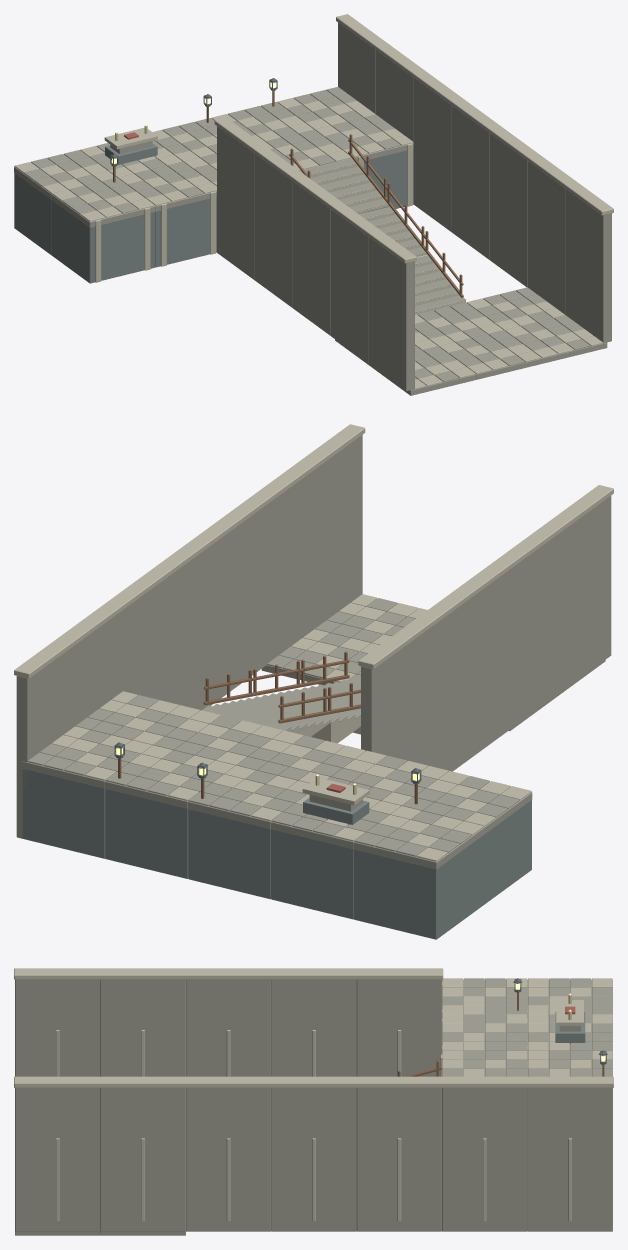
Rendered from tv_43_02_tower_stairwell.glb.
The picture shows the model from 3 angles, top to bottom: view 1: azimuth 30°, elevation 25°; view 2: azimuth 150°, elevation 25°; view 3: azimuth 270°, elevation 25°; orthographic projection. The views are drawn at different scales.
Visible parts, largest first — view 1: tower_shell_wall_0036, tower_shell_wall_0037, rampart_mass_0020, tower_shell_wall_0043, tower_shell_wall_0040, tower_shell_wall_0042, tower_shell_wall_0038, tower_shell_wall_0045, tower_shell_wall_0041, tower_shell_wall_0039, tower_shell_wall_0044, rampart_mass_0022 (+26 smaller); view 2: rampart_mass_0021, tower_shell_wall_0036, tower_shell_wall_0038, tower_shell_wall_0040, tower_shell_wall_0037, tower_shell_wall_0039, tower_shell_wall_0041, tower_shell_wall_0042, tower_shell_wall_0043, tower_shell_wall_0044, rampart_mass_0033, rampart_mass_0035 (+22 smaller); view 3: tower_shell_wall_0043, tower_shell_wall_0037, tower_shell_wall_0047, tower_shell_wall_0039, tower_shell_wall_0045, tower_shell_wall_0041, tower_shell_wall_0046, tower_shell_wall_0036, tower_shell_wall_0042, tower_shell_wall_0040, tower_shell_wall_0038, tower_shell_wall_0044 (+9 smaller).
Part boxes in pixels (x1,y1,x2,y2): tower_shell_wall_0036: [366, 228, 416, 391]; tower_shell_wall_0037: [563, 180, 613, 343]; rampart_mass_0020: [52, 195, 155, 283]; tower_shell_wall_0043: [450, 97, 499, 259]; tower_shell_wall_0040: [291, 173, 340, 335]; tower_shell_wall_0042: [252, 145, 301, 307]; tower_shell_wall_0038: [328, 201, 377, 362]; tower_shell_wall_0045: [411, 69, 460, 231]; tower_shell_wall_0041: [488, 125, 536, 287]; tower_shell_wall_0039: [525, 153, 574, 314]; tower_shell_wall_0044: [214, 117, 264, 279]; rampart_mass_0022: [155, 191, 216, 267]; rampart_mass_0021: [353, 827, 484, 939]; tower_shell_wall_0036: [551, 485, 613, 690]; tower_shell_wall_0038: [503, 520, 565, 724]; tower_shell_wall_0040: [455, 555, 517, 760]; tower_shell_wall_0037: [302, 424, 365, 628]; tower_shell_wall_0039: [254, 459, 316, 664]; tower_shell_wall_0041: [207, 494, 268, 698]; tower_shell_wall_0042: [408, 590, 469, 771]; tower_shell_wall_0043: [159, 529, 220, 710]; tower_shell_wall_0044: [358, 625, 421, 763]; rampart_mass_0033: [105, 781, 188, 878]; rampart_mass_0035: [22, 761, 105, 858]; tower_shell_wall_0043: [270, 1076, 357, 1231]; tower_shell_wall_0037: [14, 1076, 100, 1231]; tower_shell_wall_0047: [527, 1076, 613, 1231]; tower_shell_wall_0039: [100, 1076, 186, 1231]; tower_shell_wall_0045: [356, 1076, 442, 1231]; tower_shell_wall_0041: [185, 1076, 271, 1231]; tower_shell_wall_0046: [441, 1076, 527, 1231]; tower_shell_wall_0036: [14, 968, 100, 1076]; tower_shell_wall_0042: [270, 968, 357, 1076]; tower_shell_wall_0040: [185, 968, 271, 1076]; tower_shell_wall_0038: [100, 968, 186, 1076]; tower_shell_wall_0044: [356, 968, 443, 1076].
Size of the model in its own units: 20.38 by 8.04 by 28.1.
